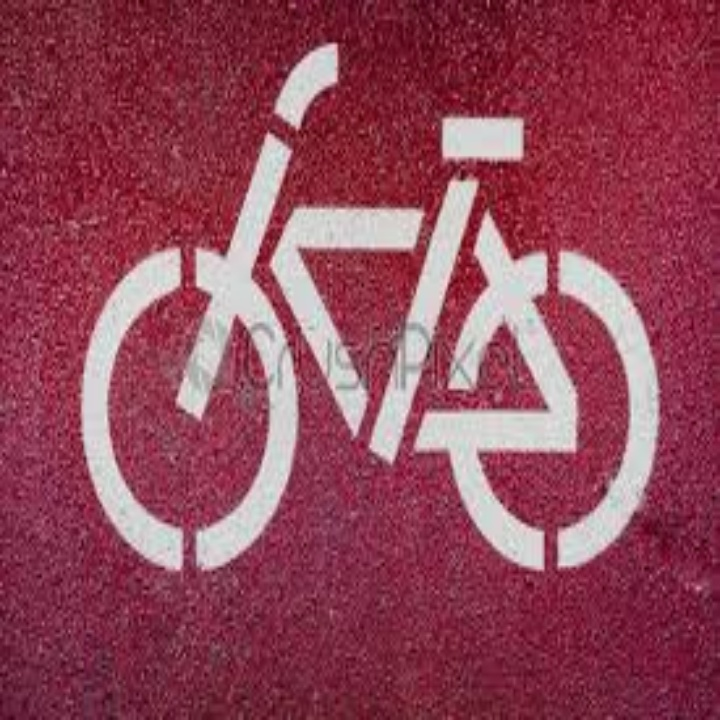bicycle: (231, 205, 489, 463)
